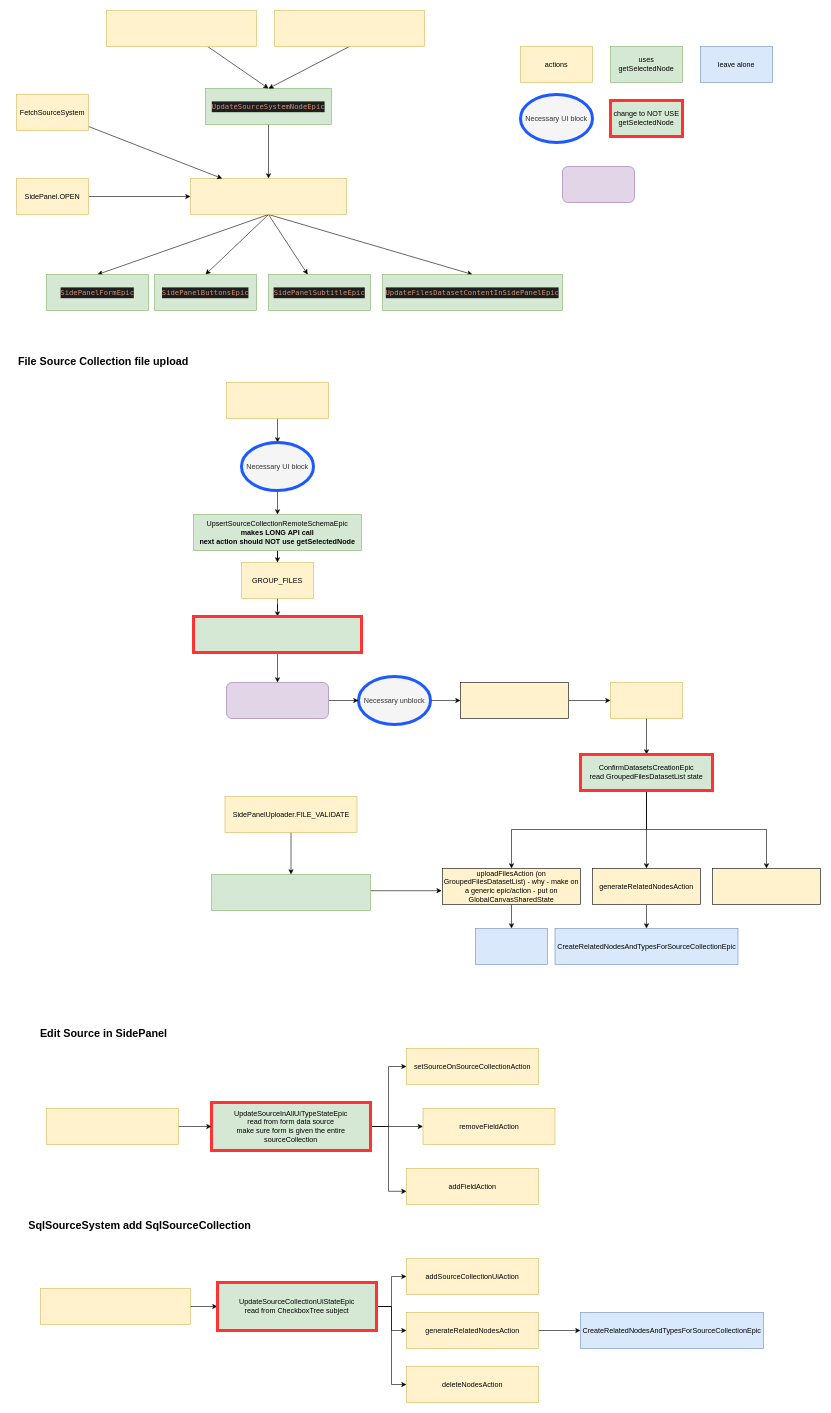
Image size: 831x1413. Some labels were removed from this diagram. The box of each missing label's shape, as (x1, y1, x2, y2) in pixels:
additional actions/state: (562, 166, 634, 202)
CheckboxTree. FILTER_ITEMS_SELECT: (40, 1288, 190, 1324)
closeModalAction: (712, 868, 820, 904)
confirm modal: (610, 682, 682, 718)
FILE_QUEUED from UiSdlFileUpload: (226, 382, 328, 418)
form.INPUT_CHANGE: (46, 1108, 178, 1144)
GroupFilesBySchemaEpic receives sourceSystemId: (192, 615, 363, 654)
HandleFilesUploadinginExistingDatasetEpic: (211, 874, 370, 910)
MultipartUploadEpic: (475, 928, 548, 964)
open GroupedFilesDatasetList modal: (460, 682, 568, 718)
PaginationComponent.BACK_SELECT: (274, 10, 424, 46)
PaginationComponent.NEXT_SELECT: (106, 10, 256, 46)
store sourceSystemId on GroupedFilesDatasetList component: (226, 682, 328, 718)
UpdateSourceSystemNode. UPDATE_SOURCE_SYSTEM_SIDE_PANEL: (190, 178, 346, 214)
